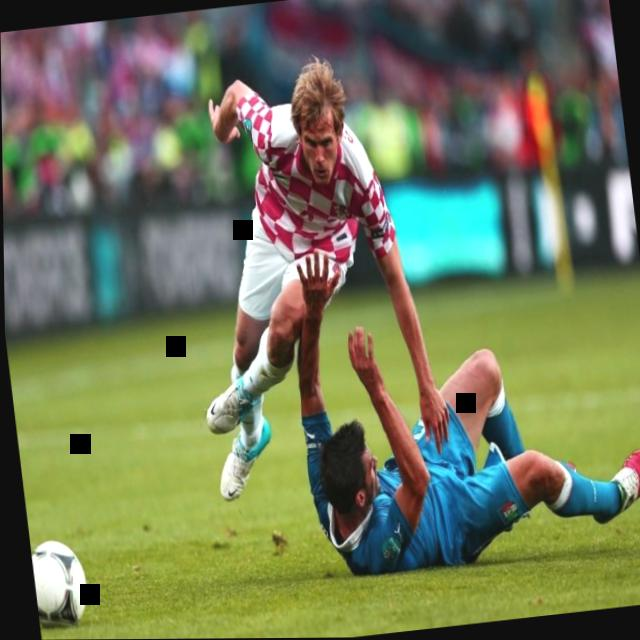Fall-Detected: (283, 278, 640, 587)
